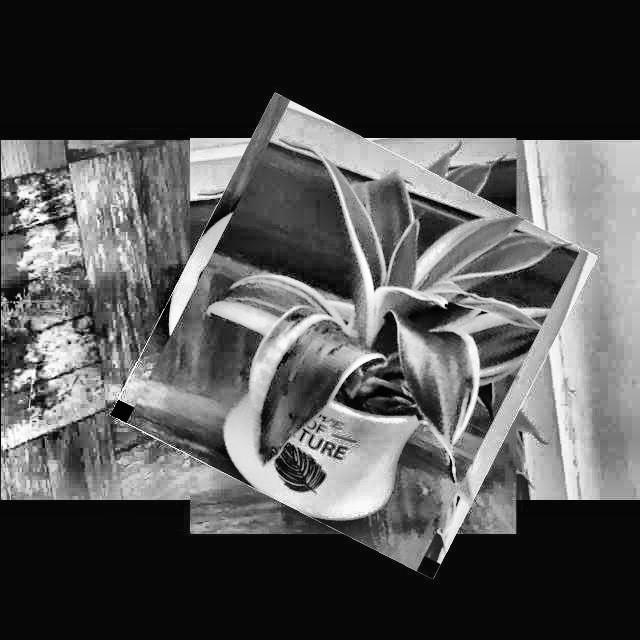plants: (141, 124, 565, 548)
